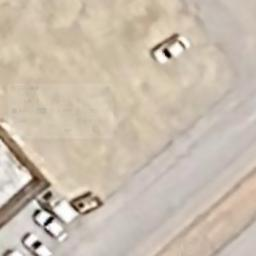sedan: (31, 208, 70, 244), (151, 33, 192, 67), (23, 232, 54, 256)
unknown: (35, 185, 80, 224)
